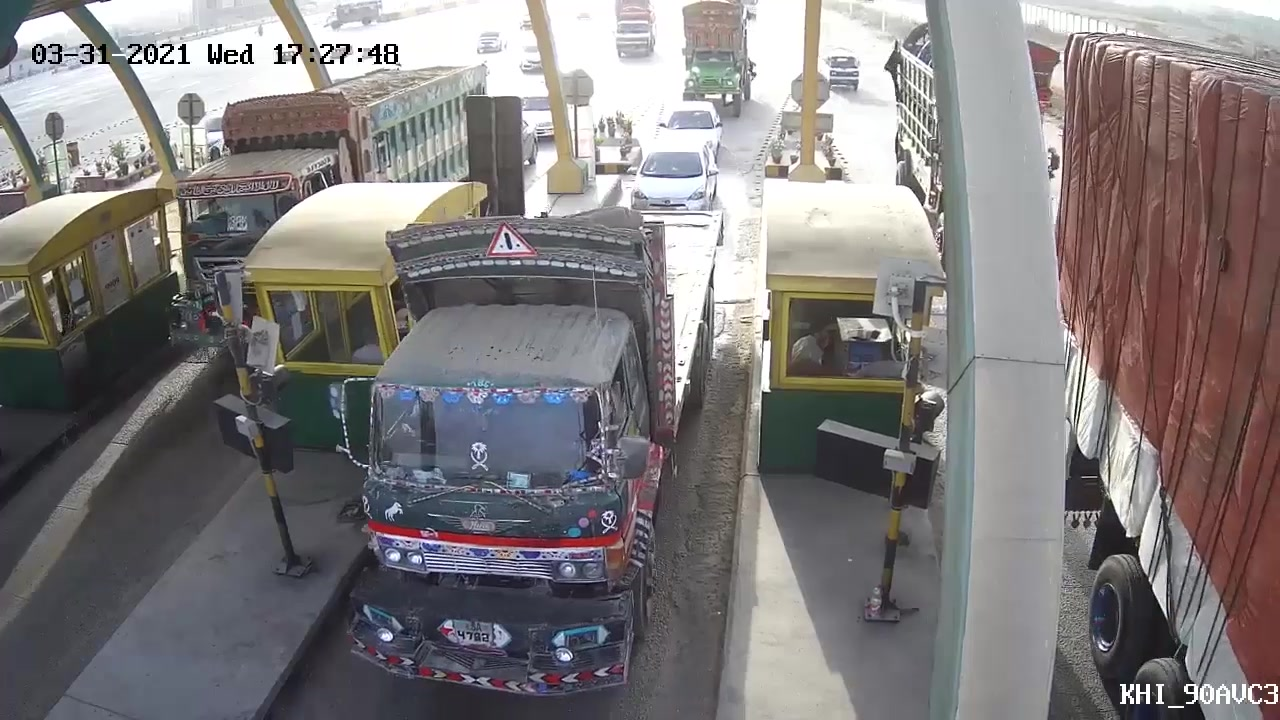F5: (318, 201, 705, 701)
